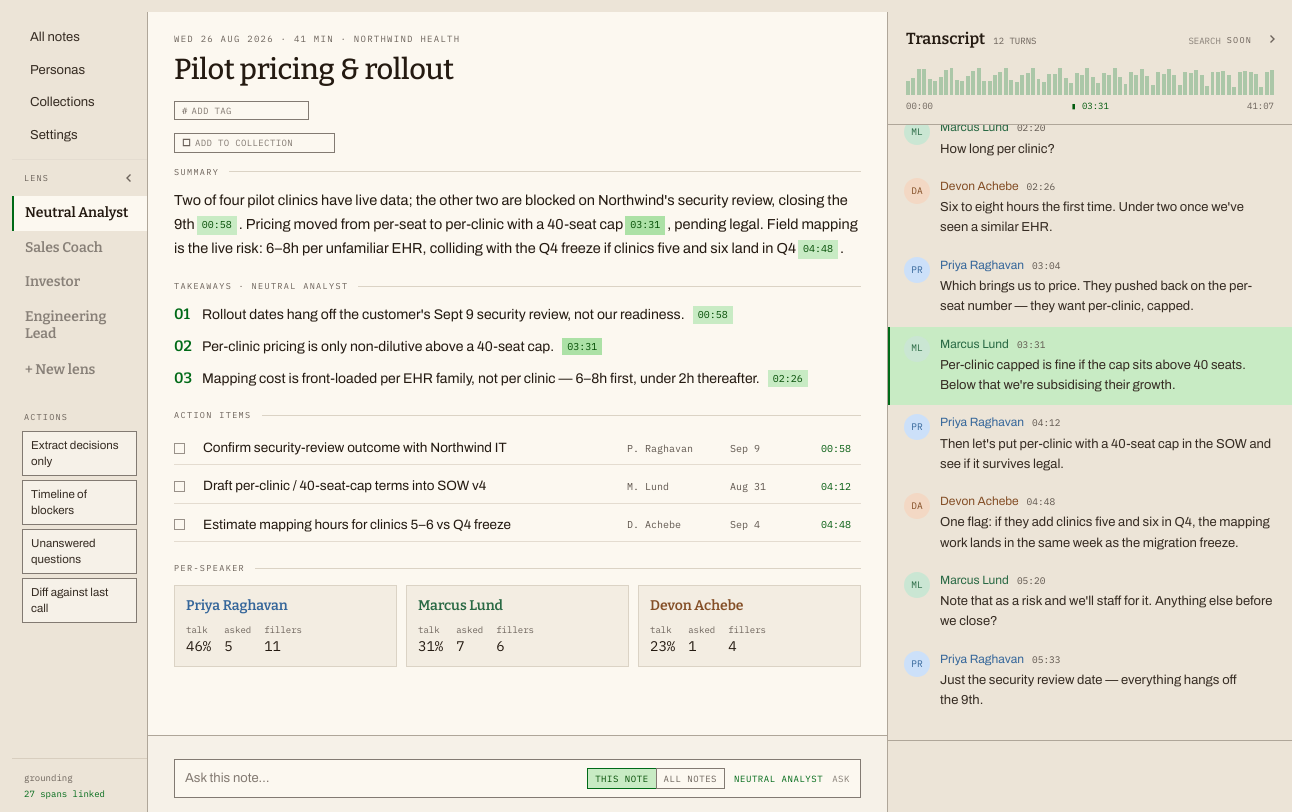
Test case: hiding and showing a pane by button › hides the lens rail to a strip and brings it back
(page scrolled)
Click the button named "Hide lens rail" at (129, 178), box [117,166,141,190]
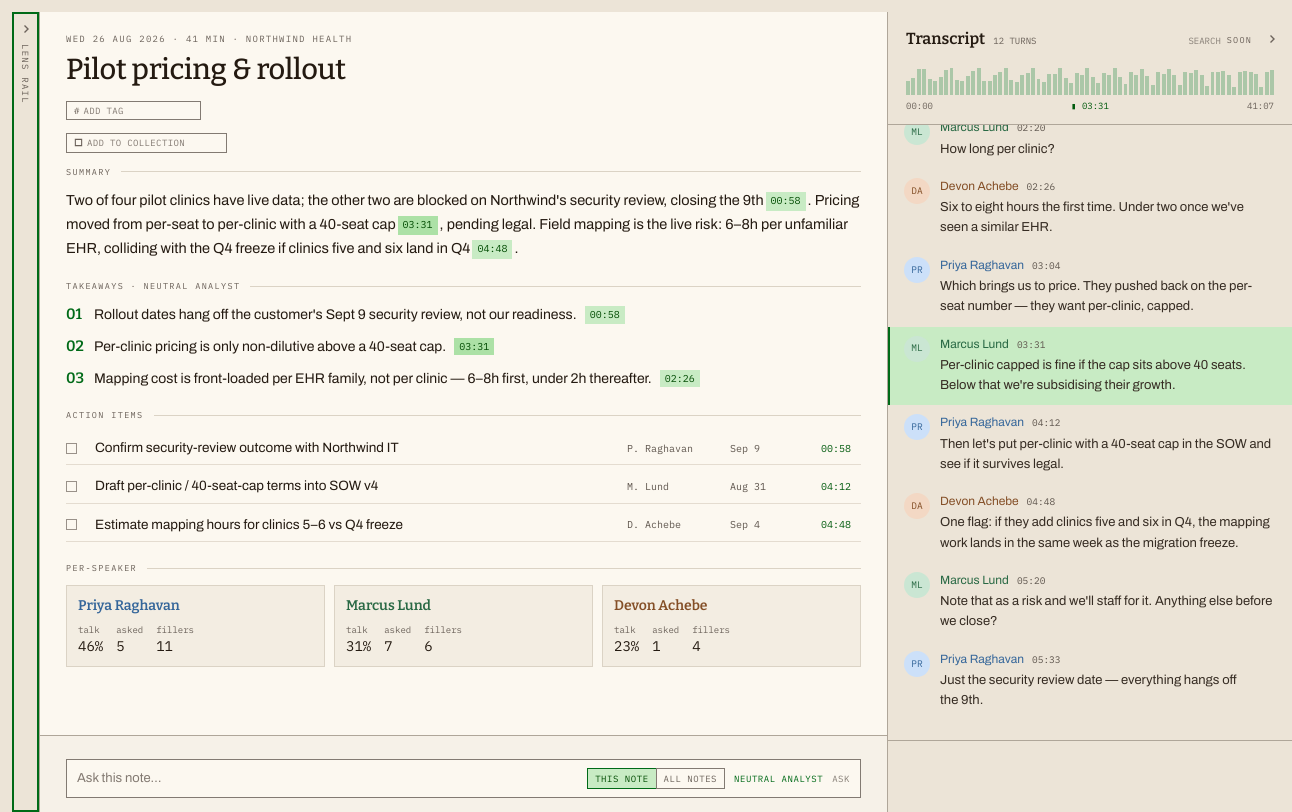
Expected: the button with id "lens-pane" is gone
Click the button with aria-label "Show lens rail" at (26, 412), box [12,12,39,811]
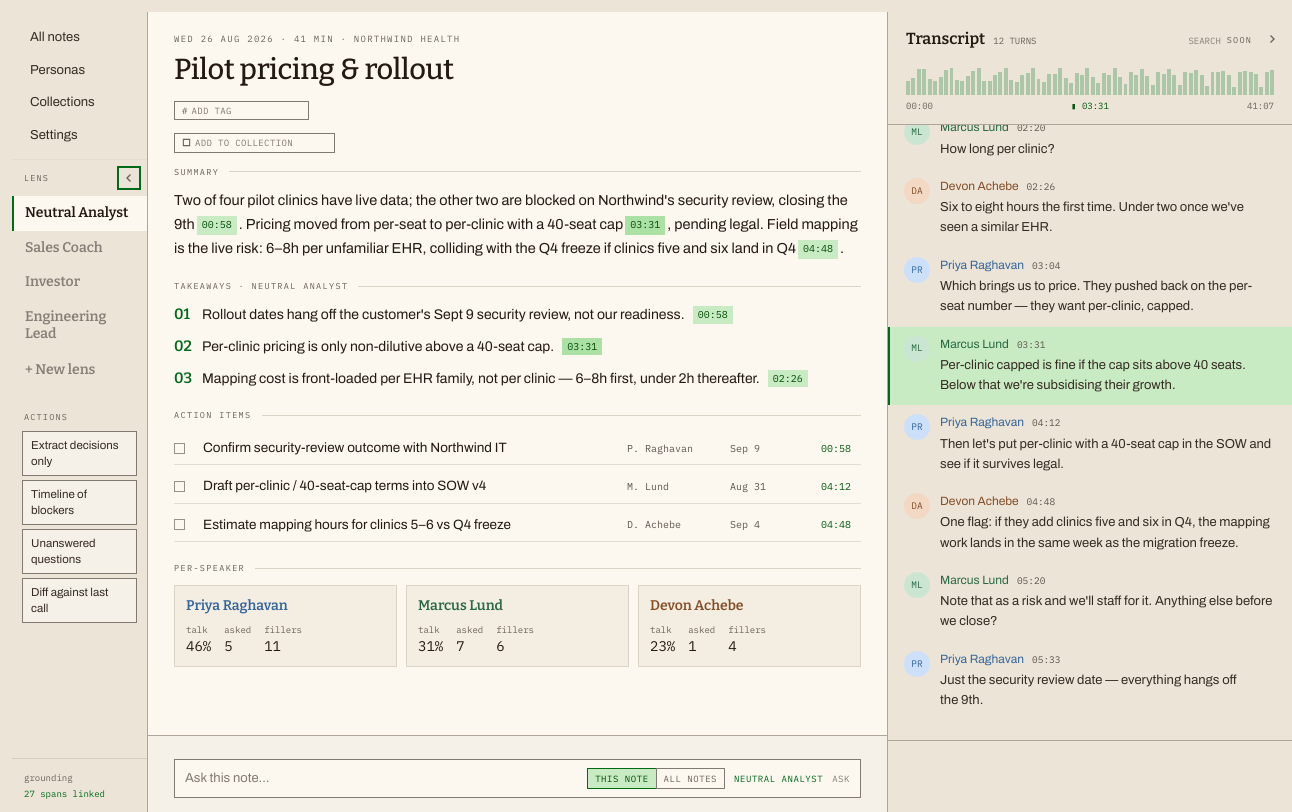
Expected: the element with id "lens-pane" is shown, [12,12,148,811]
